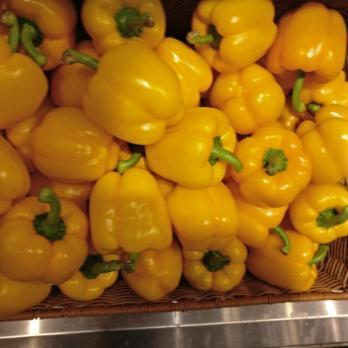Capsicum: (172, 0, 348, 291), (0, 0, 170, 300)
